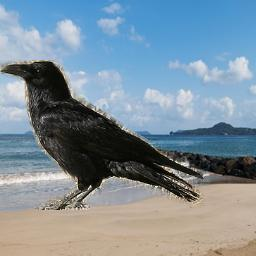Crow: (0, 60, 204, 210)
